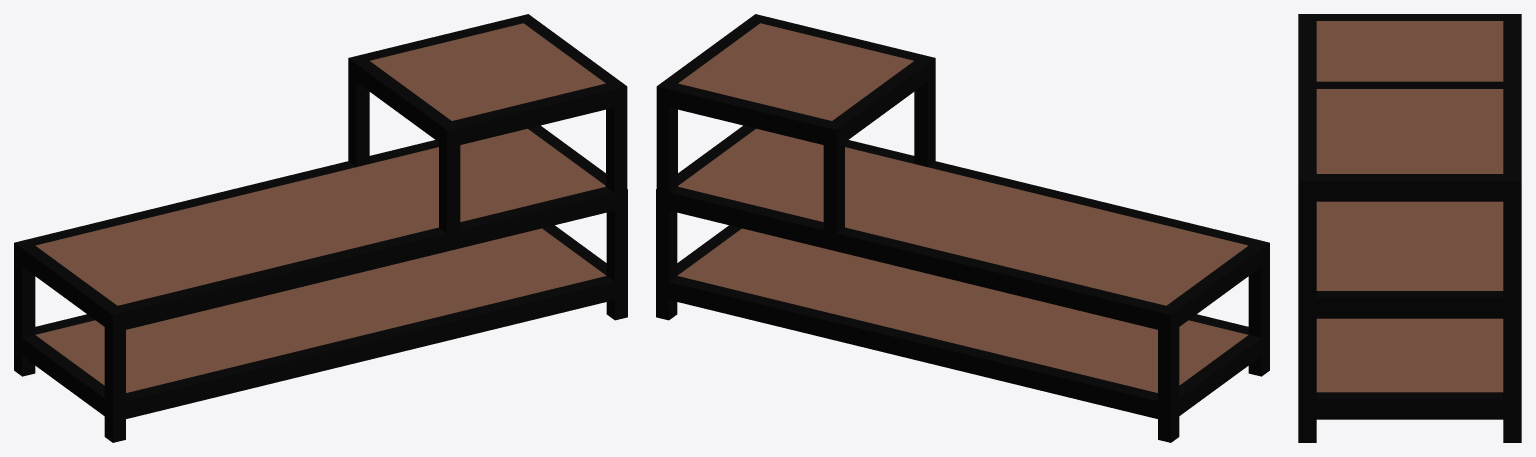
File: 2_Shelf.fbx
3 views of the same model, side by side, from view 1: azimuth 30°, elevation 25°; view 2: azimuth 150°, elevation 25°; view 3: azimuth 270°, elevation 25° (orthographic). The views are drawn at different scales.
Parts seen in each view (by area): view 1: 2_Shelf; view 2: 2_Shelf; view 3: 2_Shelf.
Part boxes in pixels (box(x1,y1,x2,y2)): 2_Shelf: box(14, 14, 627, 442); 2_Shelf: box(656, 14, 1269, 442); 2_Shelf: box(1298, 14, 1521, 442).
Size of the model in its own units: 3.01 by 1.29 by 1.
